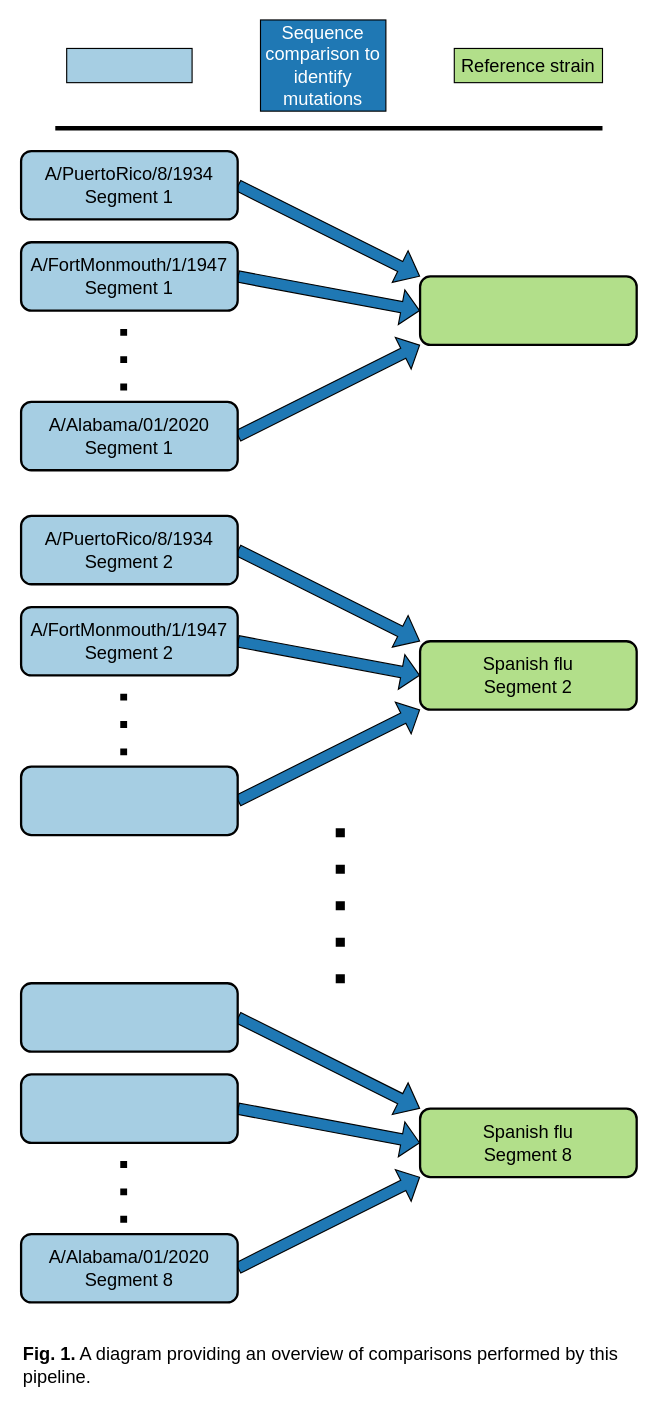
Image size: 657x1414. Some labels were removed from this diagram. The shapes that lost their labels are listed below. From the top down, each one's box as (x1, y1, x2, y2) in pixels, then its label:
(66, 47, 192, 83): Sample strain
(418, 275, 637, 345): Spanish flu Segment 1
(19, 765, 238, 836): A/Alabama/01/2020 Segment 2
(19, 982, 238, 1052): A/PuertoRico/8/1934 Segment 8
(19, 1073, 238, 1143): A/FortMonmouth/1/1947 Segment 8
